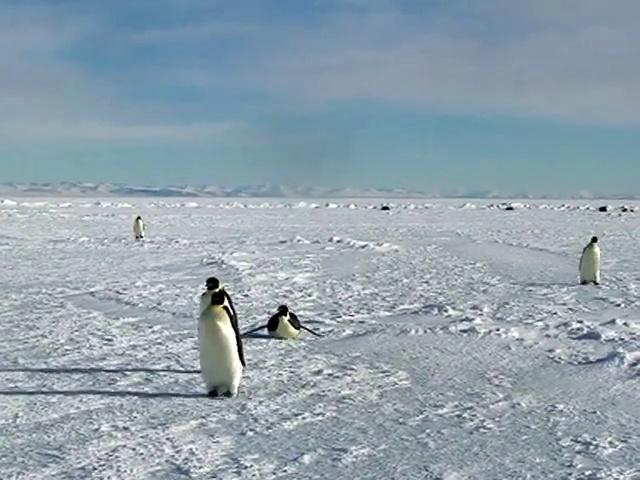animal: (244, 306, 324, 340)
